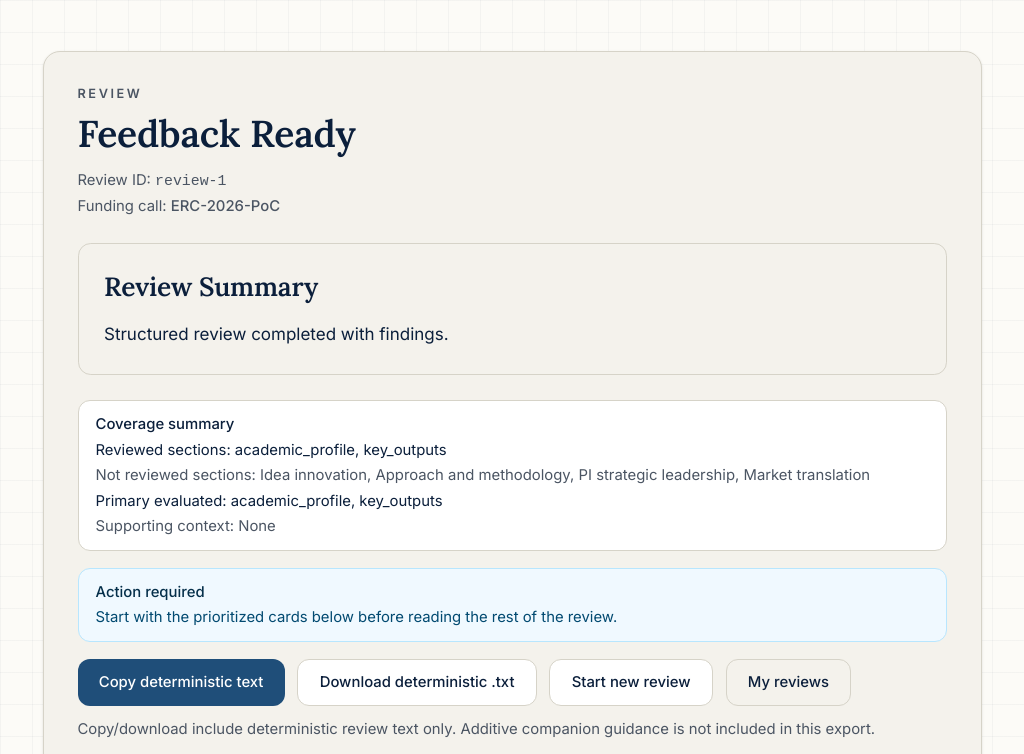
Test: ReviewDetailPage › wf0081_review_detail_atomic_copy_and_export_stay_mode_truthful
Click the button "Copy deterministic text" at (181, 683), box [78,659,285,706]
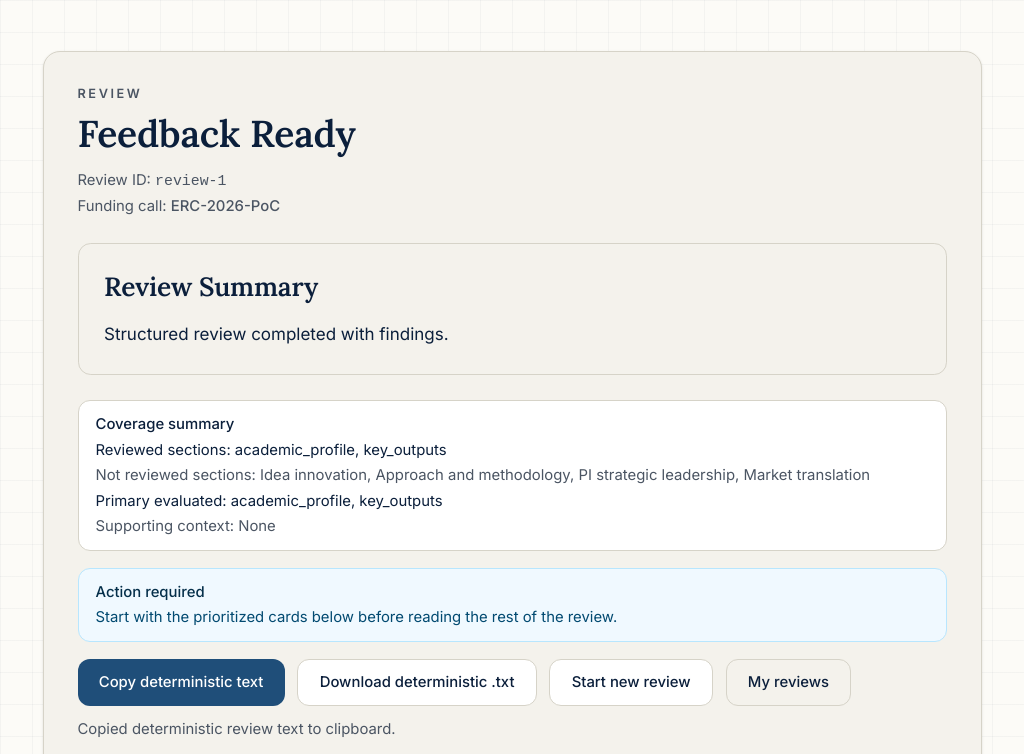
Now the text "Copied deterministic review text to clipboard." is shown, box [78,720,396,738]
Click the button "Download deterministic .txt" at (417, 683), box [297,659,537,706]
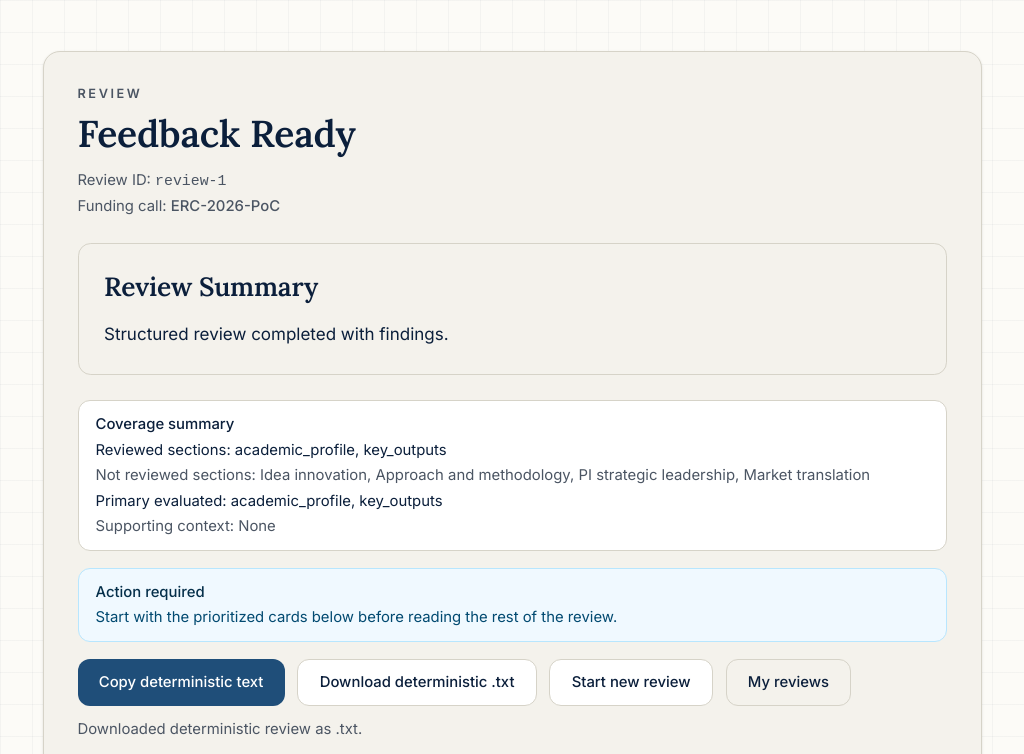
Now the text "Downloaded deterministic review as .txt." is shown, box [78,720,362,738]
